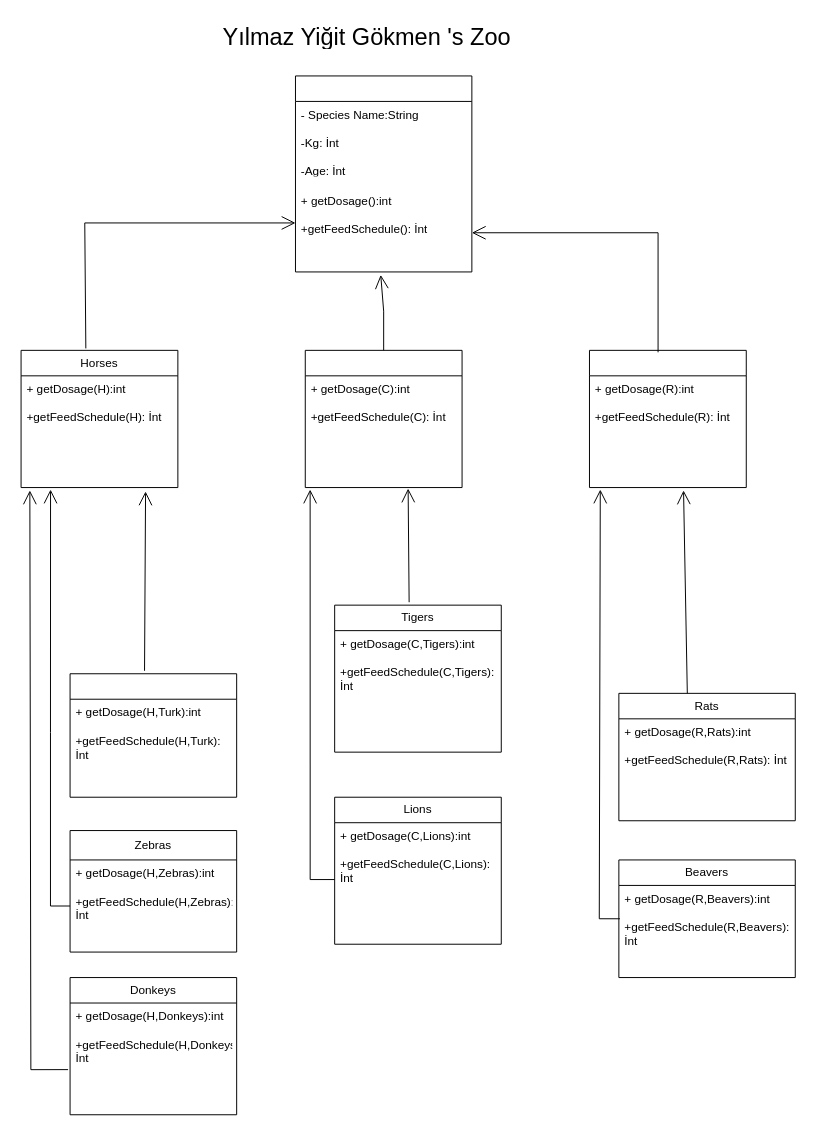
The diagram is 813 pixels wide and 1134 high, and some of its shapes have lost their labels. The box of each missing label's shape, as (x1, y1, x2, y2) in pixels:
Animals: (294, 75, 472, 272)
Cats: (304, 349, 462, 488)
Rodents: (588, 349, 746, 488)
Turk Horses: (69, 673, 237, 797)
